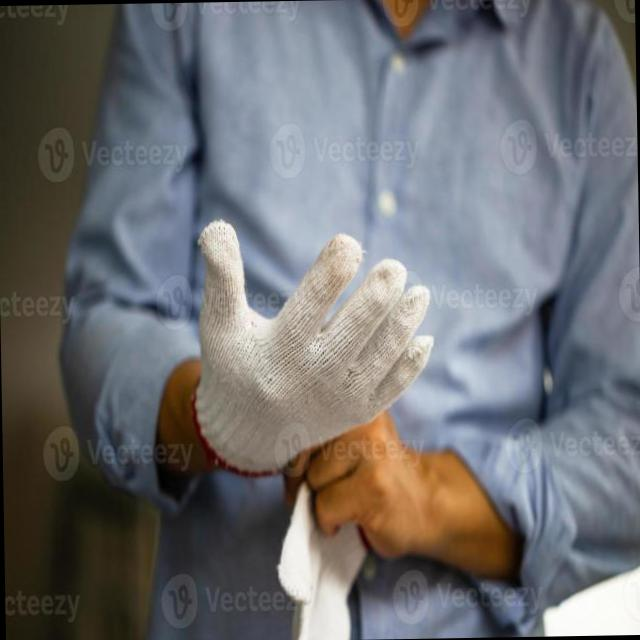Gloves: (181, 218, 446, 493)
